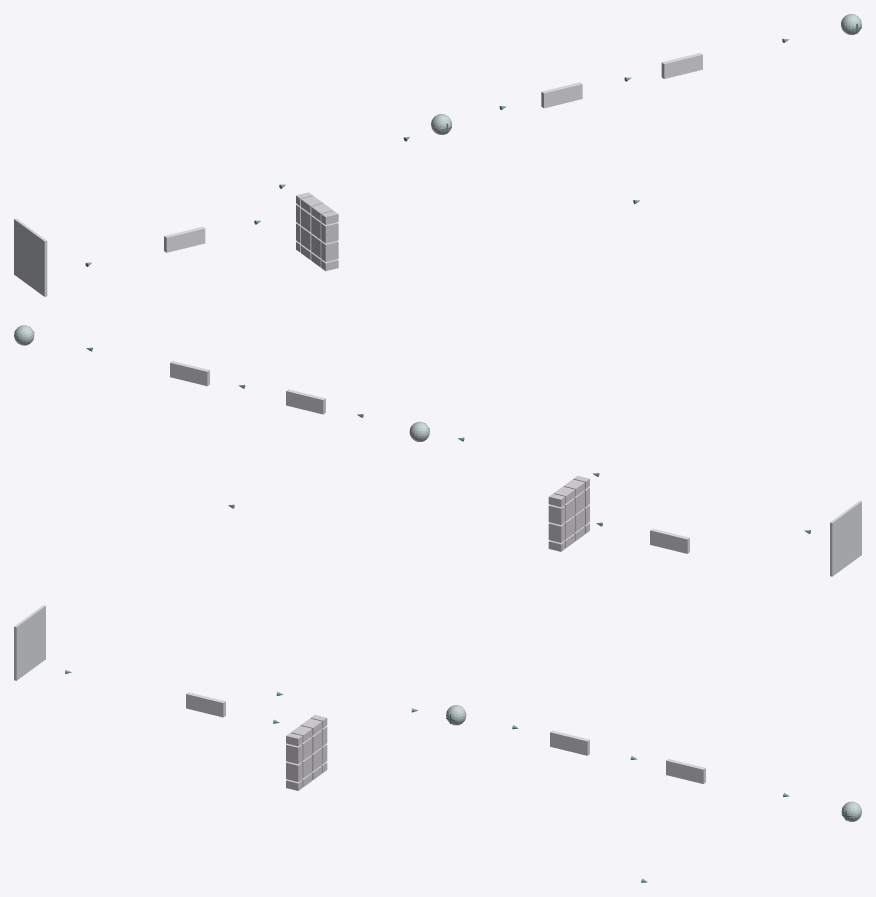
File: shifted-block-final.glb
3 views of the same model, one above another, from view 1: azimuth 30°, elevation 25°; view 2: azimuth 150°, elevation 25°; view 3: azimuth 330°, elevation 25° (orthographic). The views are drawn at different scales.
Visible parts, largest first — view 1: Intermediate · features · C×H×W, LN (×2), MLP; view 2: Intermediate · features · C×H×W, LN (×2), MLP; view 3: Intermediate · features · C×H×W, LN (×2), MLP.
Part boxes in pixels (<box>): Intermediate · features · C×H×W: <box>14,218,47,296</box>; LN (×2): <box>164,82,582,252</box>; MLP: <box>661,53,702,78</box>; Intermediate · features · C×H×W: <box>830,501,861,576</box>; LN (×2): <box>286,389,689,553</box>; MLP: <box>170,361,209,386</box>; Intermediate · features · C×H×W: <box>14,605,45,680</box>; LN (×2): <box>186,692,589,755</box>; MLP: <box>666,759,705,783</box>.
Size of the model in its own units: 41.48 by 6.39 by 3.05.
